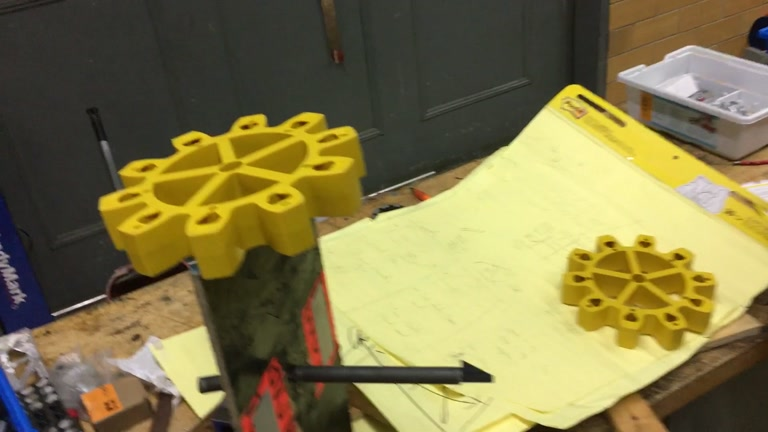gear: (96, 109, 367, 281), (559, 232, 717, 352)
